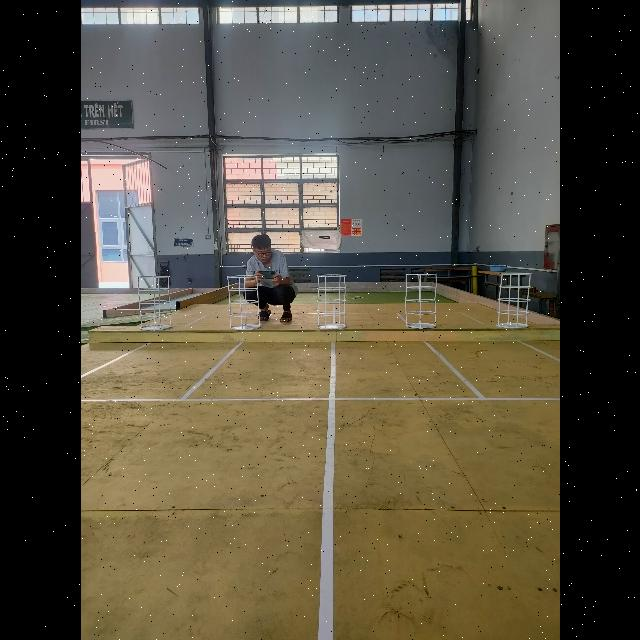S: (136, 274, 172, 332), (496, 272, 532, 330), (226, 275, 260, 331), (404, 272, 436, 330), (317, 274, 347, 330)
